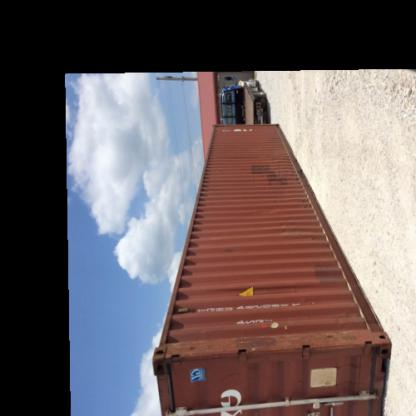Damage: (154, 332, 368, 368)
